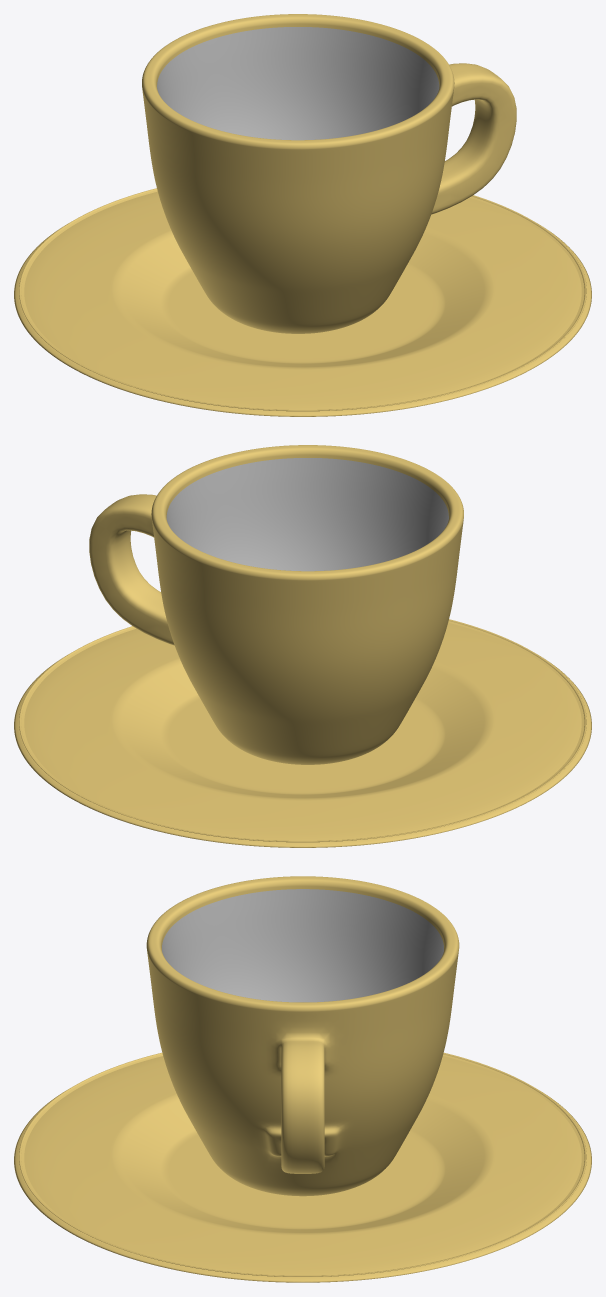
File: obj_cup_of_coffee_07aa5f.glb
The picture shows the model from 3 angles, top to bottom: view 1: azimuth 30°, elevation 25°; view 2: azimuth 150°, elevation 25°; view 3: azimuth 270°, elevation 25°; orthographic projection.
Parts seen in each view (by area): view 1: obj_cup_of_coffee_07aa5f; view 2: obj_cup_of_coffee_07aa5f; view 3: obj_cup_of_coffee_07aa5f.
Boxes of the visible parts, x1,y1,x2,y2 form: obj_cup_of_coffee_07aa5f: [14, 14, 591, 416]; obj_cup_of_coffee_07aa5f: [14, 445, 591, 847]; obj_cup_of_coffee_07aa5f: [14, 876, 591, 1282].
Size of the model in its own units: 0.1996 by 0.09 by 0.1996.
